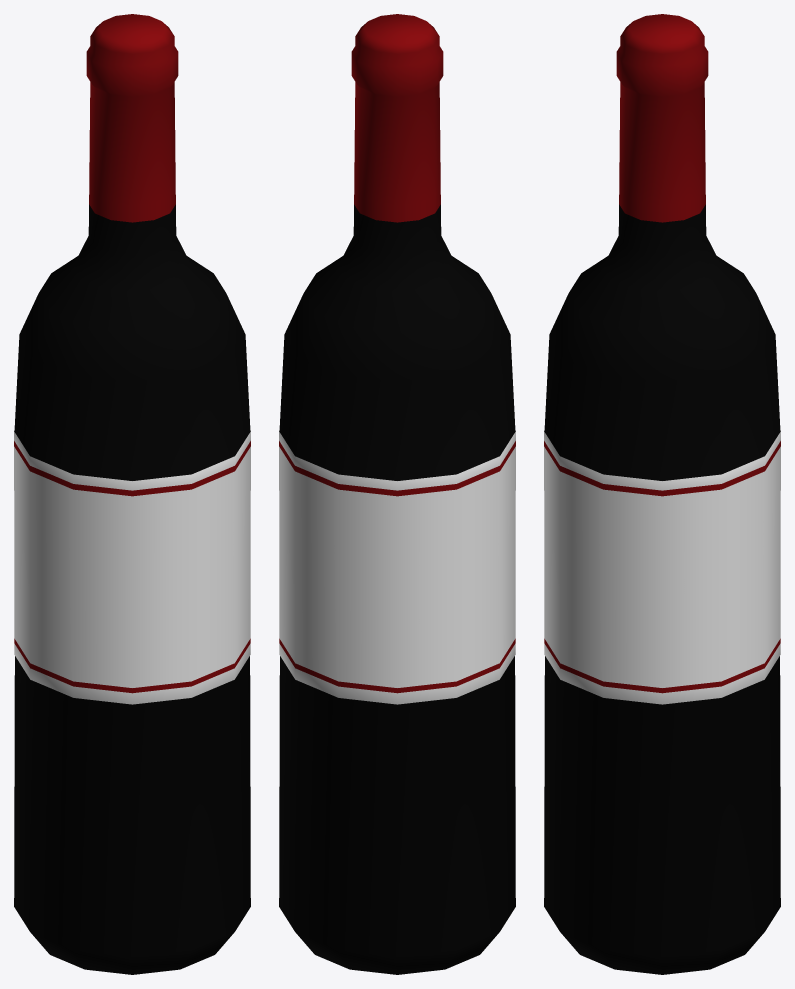
File: bottle3.gltf
3 renders of one model, left to right at view 1: azimuth 30°, elevation 25°; view 2: azimuth 150°, elevation 25°; view 3: azimuth 270°, elevation 25°, orthographic.
Visible parts, largest first — view 1: Wine; view 2: Wine; view 3: Wine.
Boxes of the visible parts, <box> form: Wine: <box>14,14,250,974</box>; Wine: <box>279,14,515,974</box>; Wine: <box>544,14,780,974</box>.
Size of the model in its own units: 0.0937 by 0.3993 by 0.0937.
